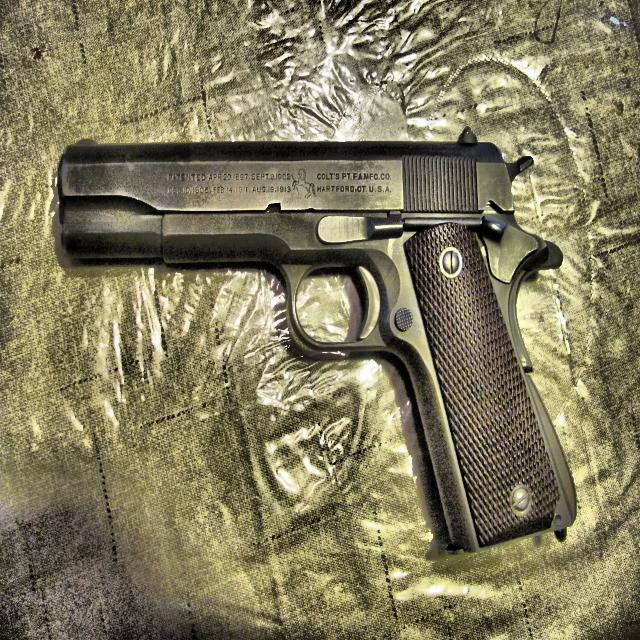Colt m1911: (56, 126, 578, 558)
